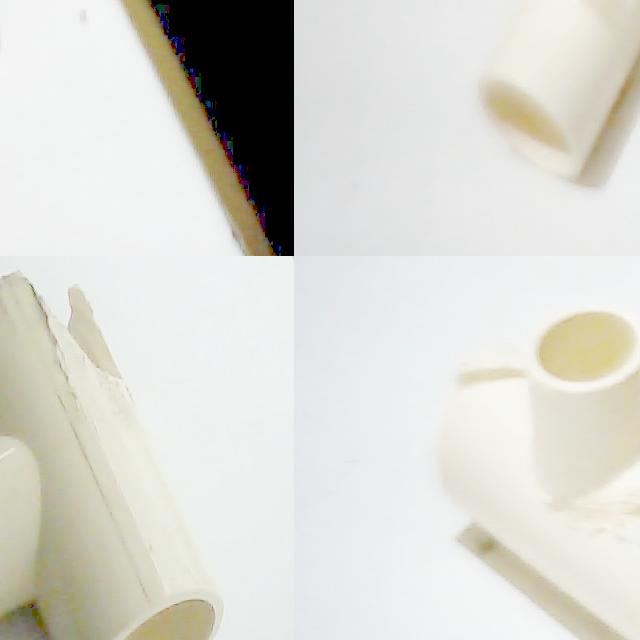Defective: (20, 270, 128, 382), (564, 484, 640, 640), (460, 341, 524, 424)
T Joint: (0, 272, 226, 640), (444, 297, 640, 640)
